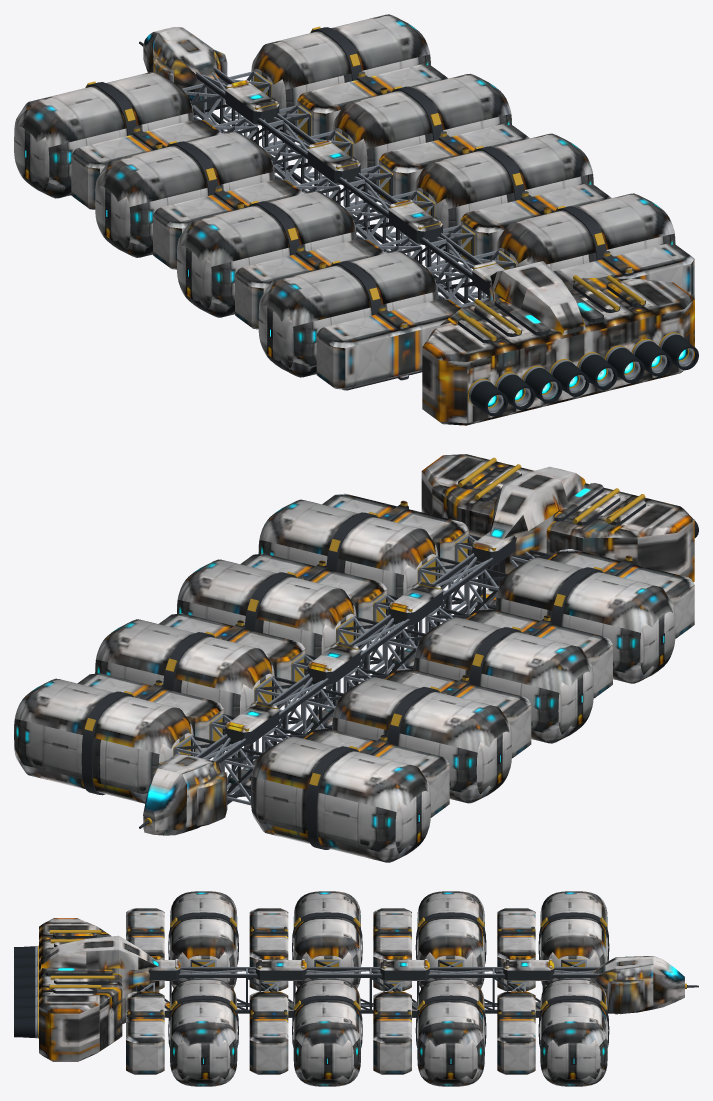
File: bulk-freighter.glb
The picture shows the model from 3 angles, top to bottom: view 1: azimuth 30°, elevation 25°; view 2: azimuth 150°, elevation 25°; view 3: azimuth 270°, elevation 25°; orthographic projection. The views are drawn at different scales.
Visible parts, largest first — view 1: Reference artwork | titanium, brass, panels and canopy, Structural frames | gunmetal, Machined titanium edges, Structural rails | dark alloy, Warm brass collars, Ventral armor | dedicated bottom-view reference; view 2: Reference artwork | titanium, brass, panels and canopy, Structural frames | gunmetal, Machined titanium edges, Ventral armor | dedicated bottom-view reference, Warm brass collars; view 3: Reference artwork | titanium, brass, panels and canopy, Structural frames | gunmetal, Ventral armor | dedicated bottom-view reference, Machined titanium edges, Structural rails | dark alloy, Warm brass collars.
Boxes of the visible parts, <box> form: Reference artwork | titanium, brass, panels and canopy: <box>14,14,694,423</box>; Structural frames | gunmetal: <box>86,27,645,389</box>; Machined titanium edges: <box>182,67,694,412</box>; Structural rails | dark alloy: <box>24,148,698,416</box>; Warm brass collars: <box>85,26,689,408</box>; Ventral armor | dedicated bottom-view reference: <box>17,99,683,425</box>; Reference artwork | titanium, brass, panels and canopy: <box>14,454,694,853</box>; Structural frames | gunmetal: <box>81,467,645,849</box>; Machined titanium edges: <box>173,534,534,805</box>; Ventral armor | dedicated bottom-view reference: <box>15,555,688,862</box>; Warm brass collars: <box>84,457,645,825</box>; Reference artwork | titanium, brass, panels and canopy: <box>37,891,684,1079</box>; Structural frames | gunmetal: <box>45,912,698,1048</box>; Ventral armor | dedicated bottom-view reference: <box>37,978,674,1086</box>; Machined titanium edges: <box>35,946,599,1038</box>; Structural rails | dark alloy: <box>14,946,576,1064</box>; Warm brass collars: <box>38,917,686,1038</box>.
Size of the model in its own units: 9.81 by 2.49 by 19.51.
Materials: 7 (2 with a texture image).
